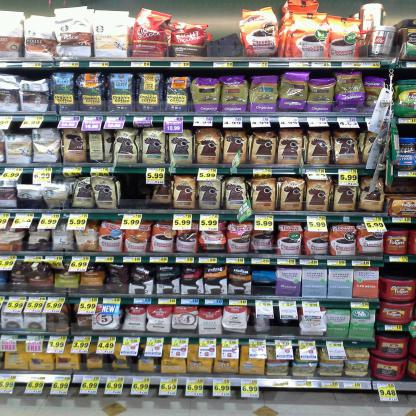Void: (209, 21, 244, 53), (121, 176, 148, 204), (275, 320, 296, 335)
